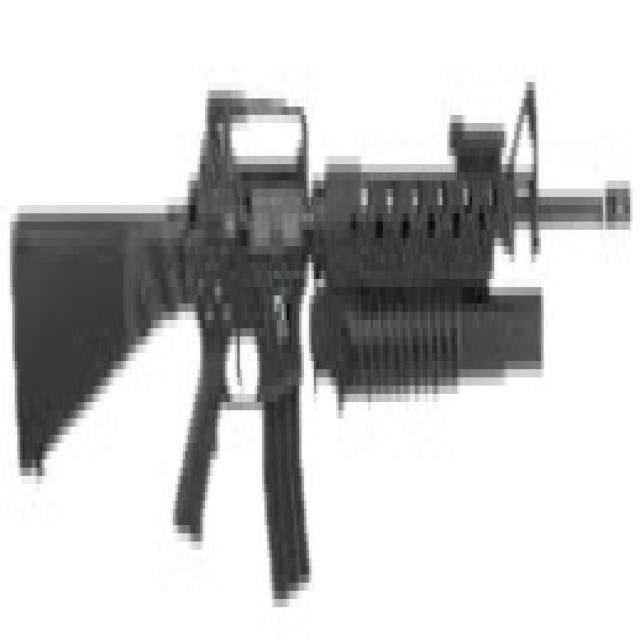rifle: (9, 57, 635, 640)
